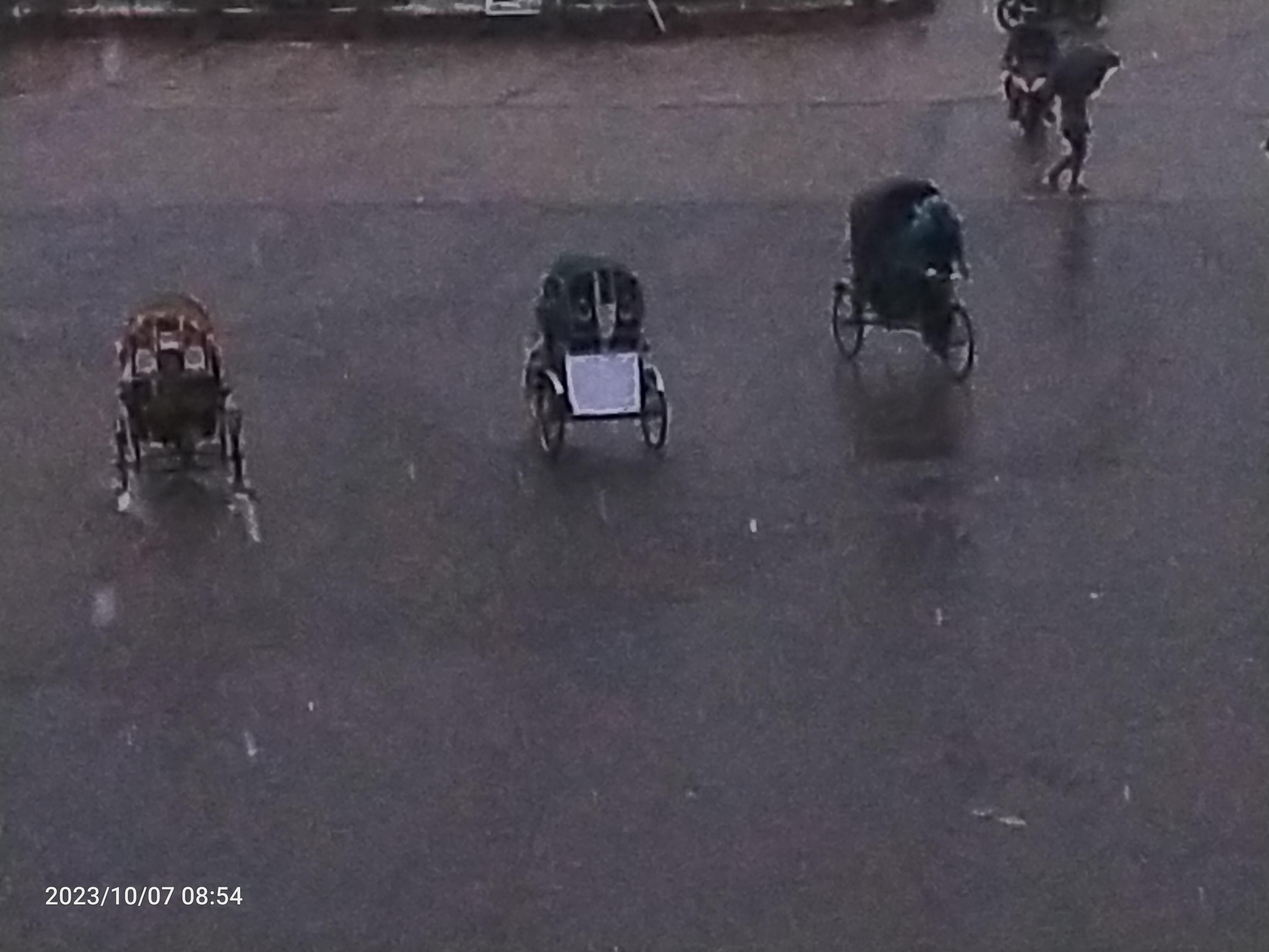Car: (488, 219, 695, 524), (82, 254, 276, 545), (798, 151, 1018, 397)
